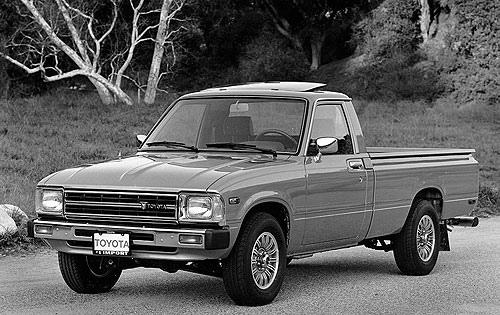truck: (28, 79, 479, 306)
